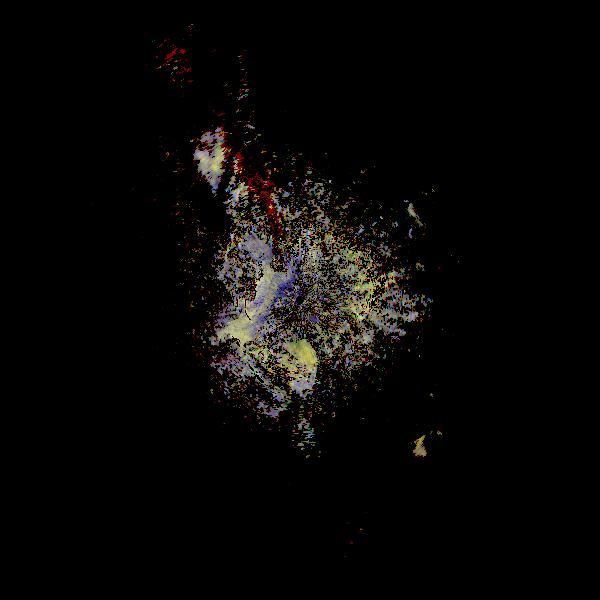roost: (395, 415, 494, 514), (262, 334, 337, 409), (402, 185, 465, 248), (281, 403, 329, 451)
